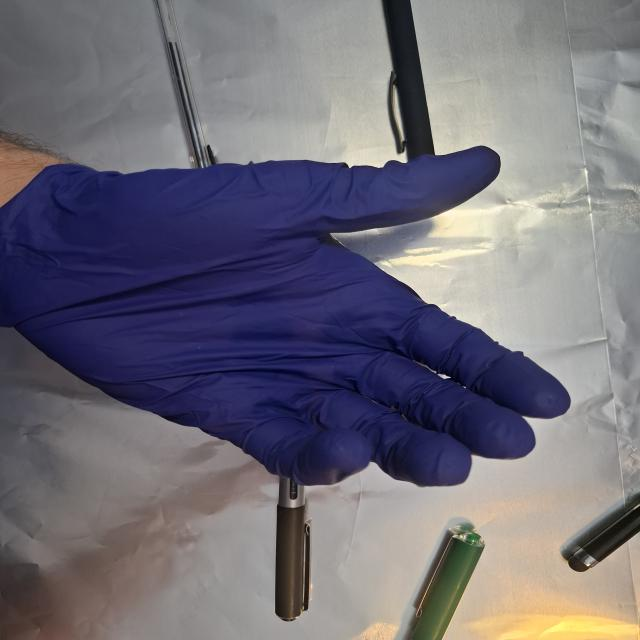glove_on: (4, 143, 577, 490)
